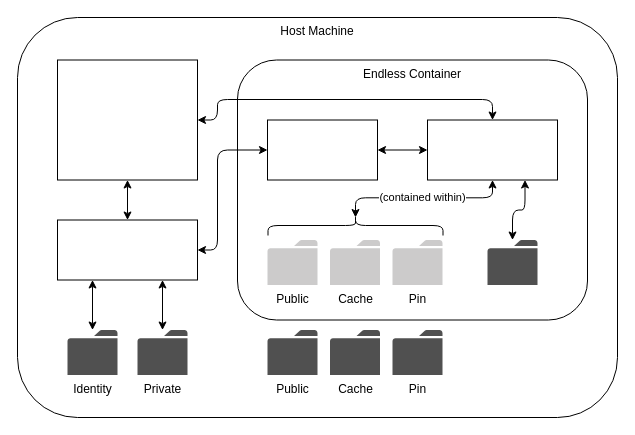
This 635x435 diagram has some shape labels left out. Here are the shapes that lost their labels. From the top down, the centre of each, then its label:
At (x=127, y=119): "Endless Browser (User Interface)".
At (x=322, y=149): "Endless Server".
At (x=492, y=149): "site-apps".
At (x=127, y=249): "Endless Host Server".
At (x=512, y=262): "Container Disk".
